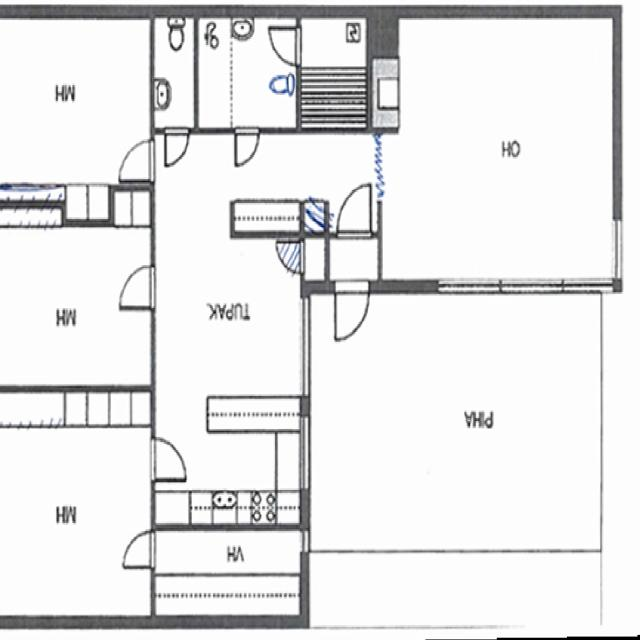door: (336, 280, 368, 338), (338, 188, 370, 237), (150, 438, 185, 480), (119, 266, 154, 307), (120, 140, 154, 181), (124, 532, 154, 567), (270, 29, 300, 64), (165, 128, 189, 164), (236, 128, 258, 164)
